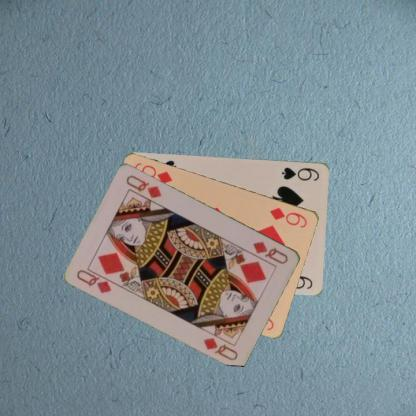6d: (267, 204, 308, 229)
6s: (279, 165, 321, 182)
Qd: (74, 265, 119, 295), (251, 239, 289, 265)
